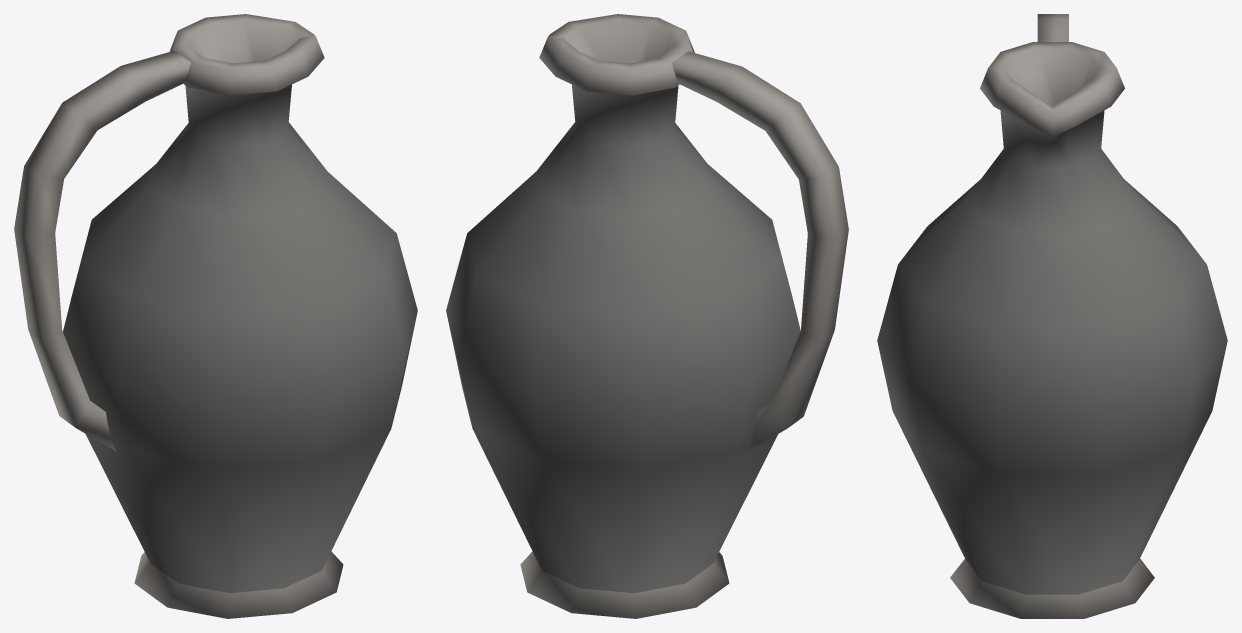
File: rpgpp_ag_jug_03a.fbx
3 renders of one model, left to right at view 1: azimuth 30°, elevation 25°; view 2: azimuth 150°, elevation 25°; view 3: azimuth 270°, elevation 25°, orthographic. The views are drawn at different scales.
Visible parts, largest first — view 1: rpgpp_ag_jug_03a; view 2: rpgpp_ag_jug_03a; view 3: rpgpp_ag_jug_03a.
Boxes of the visible parts, x1=… form: rpgpp_ag_jug_03a: x1=14, y1=14, x2=417, y2=618; rpgpp_ag_jug_03a: x1=446, y1=14, x2=848, y2=618; rpgpp_ag_jug_03a: x1=877, y1=14, x2=1227, y2=618.
Bounding box in the file's own units: 0.3014 × 0.4176 × 0.2602.
